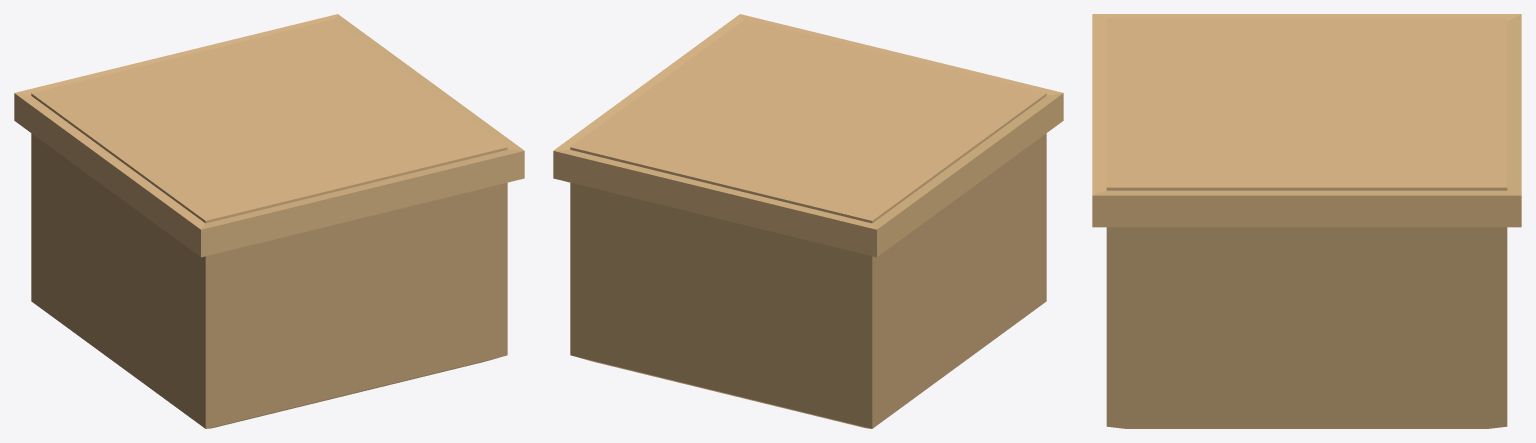
3 views of the same model, side by side, from view 1: azimuth 30°, elevation 25°; view 2: azimuth 150°, elevation 25°; view 3: azimuth 270°, elevation 25° (orthographic). The views are drawn at different scales.
Visible parts, largest first — view 1: Cube.001; view 2: Cube.001; view 3: Cube.001.
Part boxes in pixels (x1,y1,x2,y2): Cube.001: (14,14,524,428); Cube.001: (553,14,1063,428); Cube.001: (1092,14,1521,428).
Bounding box in the file's own units: 214 × 137 × 214.
